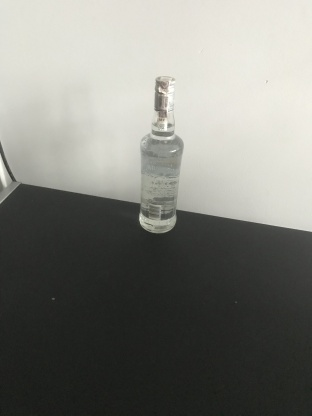nakretka: (153, 73, 177, 112)
